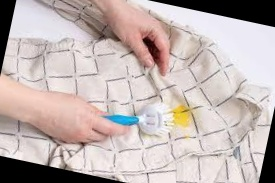mustard: (170, 103, 192, 127)
